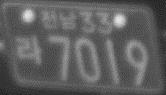0: (74, 36, 101, 81)
1: (103, 38, 121, 85)
3: (93, 10, 114, 35), (76, 9, 94, 34)
7: (47, 35, 71, 83)
9: (124, 38, 148, 89)
라: (14, 34, 42, 65)
전남_O: (40, 8, 78, 32)
